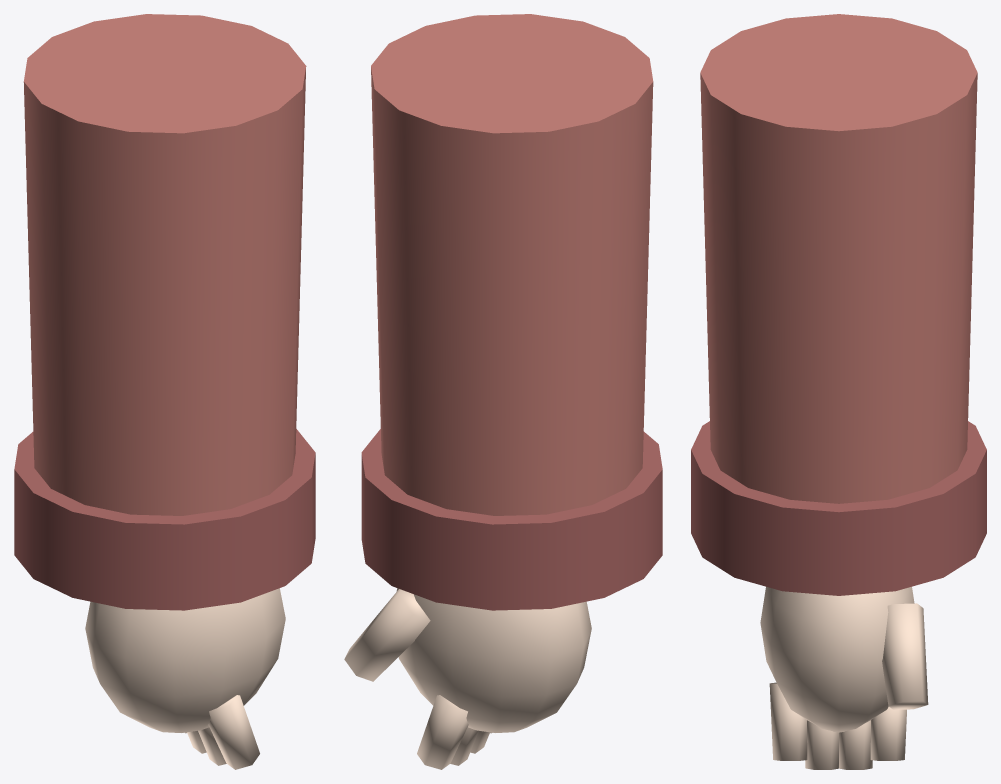
File: gran_forearm.glb
3 views of the same model, side by side, from view 1: azimuth 30°, elevation 25°; view 2: azimuth 150°, elevation 25°; view 3: azimuth 270°, elevation 25° (orthographic). The views are drawn at different scales.
Visible parts, largest first — view 1: gran_forearm; view 2: gran_forearm; view 3: gran_forearm.
Part boxes in pixels (<box>): gran_forearm: <box>14,14,315,769</box>; gran_forearm: <box>344,14,662,769</box>; gran_forearm: <box>691,14,986,769</box>.
Size of the model in its own units: 0.128 by 0.3221 by 0.128.
